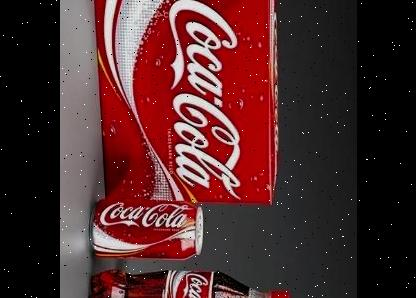Can: (87, 200, 202, 260)
Plastic Bottle: (86, 267, 290, 298)
